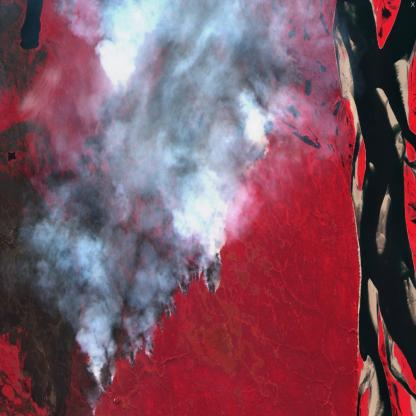fire: (35, 0, 304, 416)
